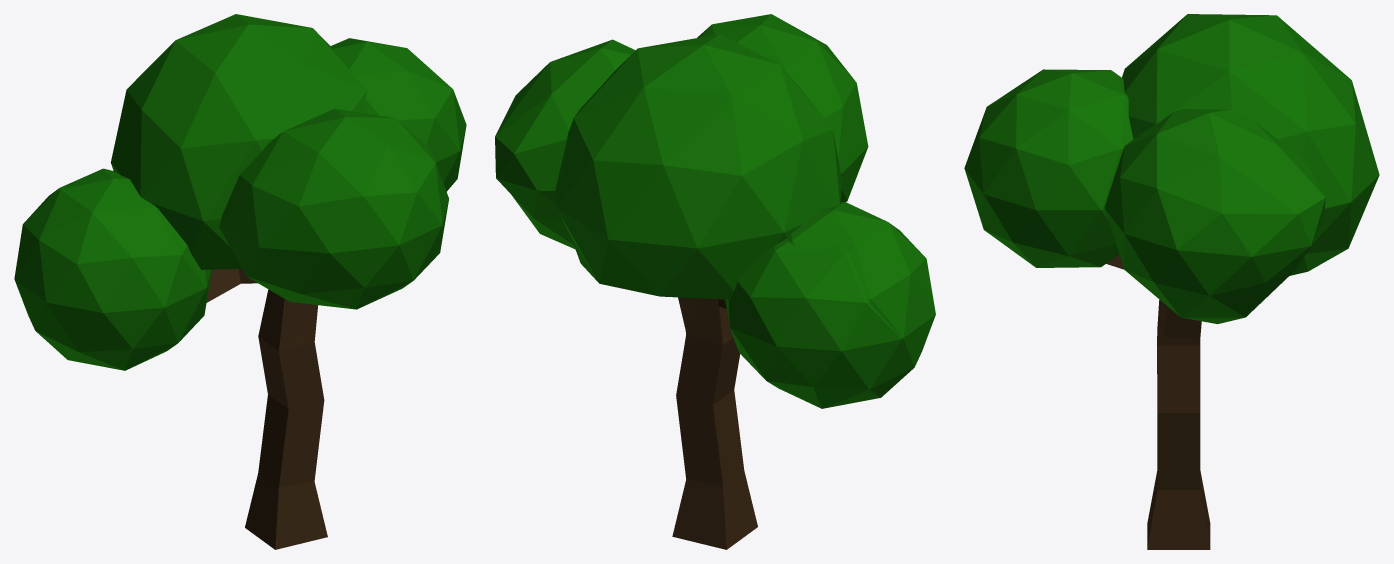
Rendered from tree.glb.
The picture shows the model from 3 angles, left to right: view 1: azimuth 30°, elevation 25°; view 2: azimuth 150°, elevation 25°; view 3: azimuth 270°, elevation 25°; orthographic projection. The views are drawn at different scales.
Visible parts, largest first — view 1: Cube, Cube.001; view 2: Cube, Cube.001; view 3: Cube, Cube.001.
Boxes of the visible parts, x1=… form: Cube: x1=14, y1=14, x2=466, y2=549; Cube.001: x1=14, y1=170, x2=322, y2=389; Cube: x1=495, y1=14, x2=914, y2=549; Cube.001: x1=676, y1=201, x2=935, y2=404; Cube: x1=964, y1=14, x2=1379, y2=549; Cube.001: x1=1106, y1=254, x2=1200, y2=412.
Bounding box in the file's own units: 15.42 × 17.88 × 13.18.
1 material, 1 textured.
